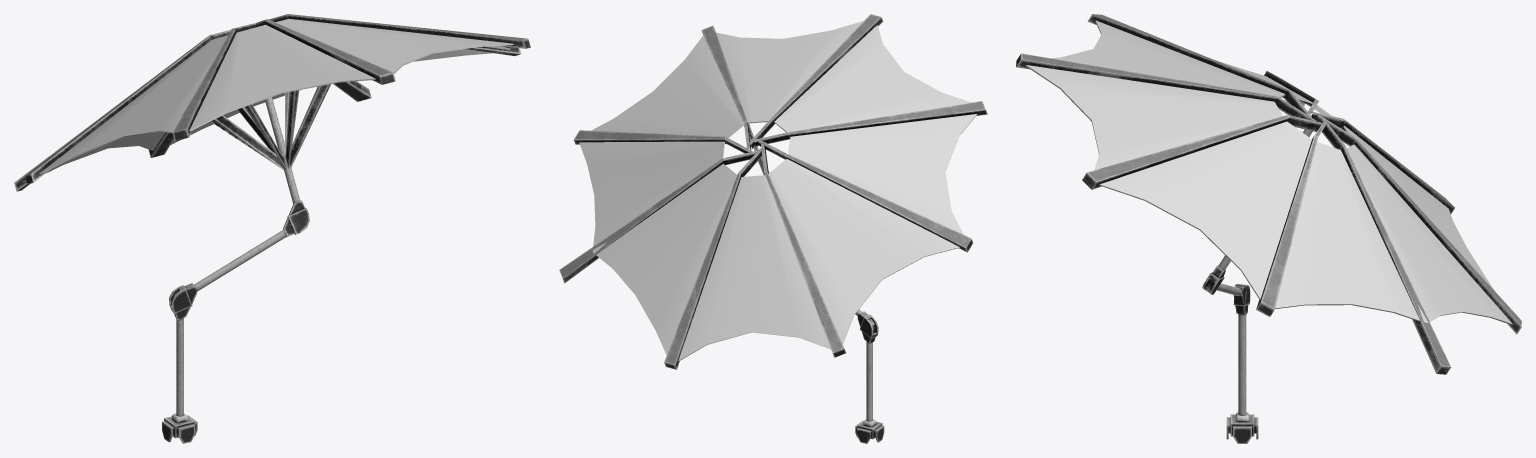
Rendered from Umbrella Final.gltf.
3 views of the same model, side by side, from view 1: azimuth 30°, elevation 25°; view 2: azimuth 150°, elevation 25°; view 3: azimuth 270°, elevation 25° (orthographic). The views are drawn at different scales.
Visible parts, largest first — view 1: Umbrella.001, Umbrella; view 2: Umbrella.001, Umbrella; view 3: Umbrella.001, Umbrella.
Boxes of the visible parts, bbox=[...] form: Umbrella.001: bbox=[23, 19, 513, 182]; Umbrella: bbox=[14, 14, 530, 443]; Umbrella.001: bbox=[579, 21, 977, 361]; Umbrella: bbox=[559, 14, 987, 443]; Umbrella.001: bbox=[1025, 20, 1512, 324]; Umbrella: bbox=[1016, 14, 1521, 443].
Bounding box in the file's own units: 7.65 × 6.29 × 6.69.
Materials: 2 (1 with a texture image).
